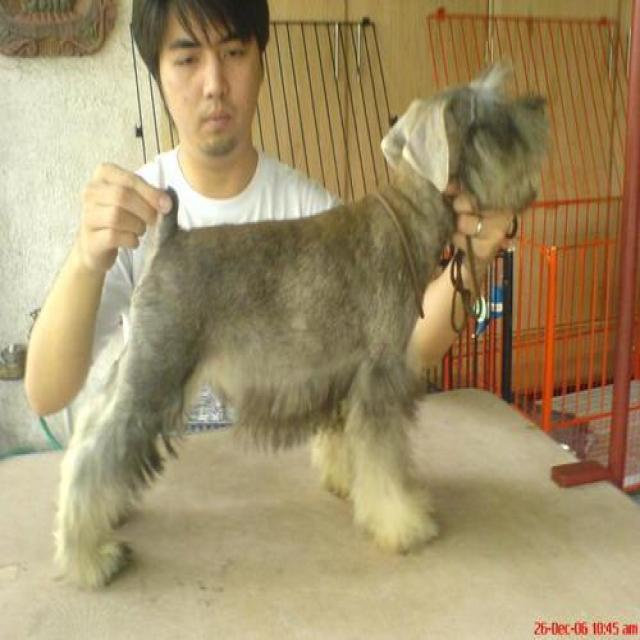standard_schnauzer: (50, 55, 554, 592)
